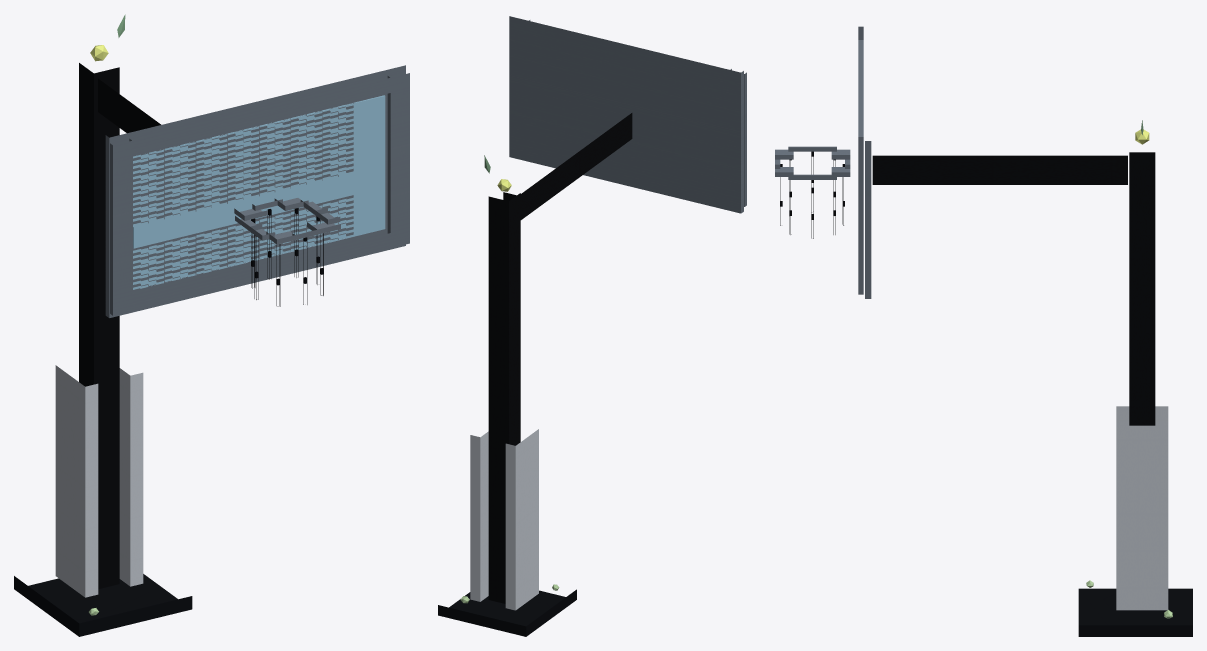
File: tt_bb_hoop.glb
The picture shows the model from 3 angles, left to right: view 1: azimuth 30°, elevation 25°; view 2: azimuth 150°, elevation 25°; view 3: azimuth 270°, elevation 25°; orthographic projection. The views are drawn at different scales.
Visible parts, largest first — view 1: Board_Frame, Board_Scissor, Pad_Wrap, Post, Base_Pad, Rim, Arm, Rim_Net_Scissor; view 2: Board_Frame, Post, Pad_Wrap, Base_Pad, Arm; view 3: Pad_Wrap, Arm, Post, Base_Pad, Board_Frame, Rim, Rim_Net_Scissor.
Boxes of the visible parts, x1=… form: Board_Frame: x1=105, y1=65, x2=409, y2=317; Board_Scissor: x1=133, y1=95, x2=385, y2=289; Pad_Wrap: x1=55, y1=365, x2=143, y2=597; Post: x1=79, y1=63, x2=119, y2=589; Base_Pad: x1=14, y1=574, x2=192, y2=636; Rim: x1=234, y1=198, x2=340, y2=244; Arm: x1=98, y1=78, x2=161, y2=133; Rim_Net_Scissor: x1=251, y1=208, x2=323, y2=306; Board_Frame: x1=509, y1=16, x2=746, y2=213; Post: x1=488, y1=193, x2=520, y2=603; Pad_Wrap: x1=470, y1=429, x2=538, y2=610; Base_Pad: x1=438, y1=589, x2=576, y2=636; Arm: x1=503, y1=113, x2=632, y2=219; Pad_Wrap: x1=1116, y1=406, x2=1168, y2=610; Arm: x1=872, y1=155, x2=1127, y2=184; Post: x1=1129, y1=152, x2=1155, y2=425; Base_Pad: x1=1078, y1=588, x2=1192, y2=636; Board_Frame: x1=858, y1=26, x2=871, y2=298; Rim: x1=775, y1=146, x2=850, y2=179; Rim_Net_Scissor: x1=780, y1=151, x2=844, y2=238.
Size of what is drawn, in the model's own units: 1.84 by 3.62 by 2.56.
Materials: 9 (6 with a texture image).
